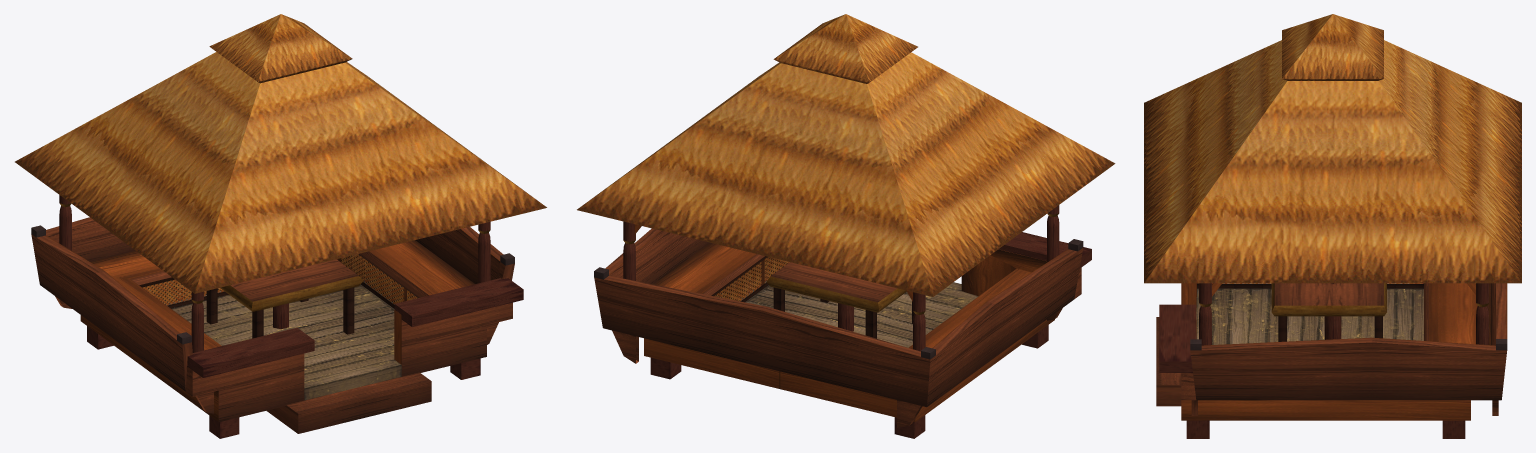
File: Hut_01.FBX
The picture shows the model from 3 angles, left to right: view 1: azimuth 30°, elevation 25°; view 2: azimuth 150°, elevation 25°; view 3: azimuth 270°, elevation 25°; orthographic projection. The views are drawn at different scales.
Parts seen in each view (by area): view 1: Hut_01; view 2: Hut_01; view 3: Hut_01.
Part boxes in pixels (left/top/right/bottom): Hut_01: left=15, top=14, right=546, bottom=438; Hut_01: left=577, top=14, right=1115, bottom=438; Hut_01: left=1144, top=14, right=1521, bottom=438.
Size of the model in its own units: 5.2 by 4.61 by 4.82.
